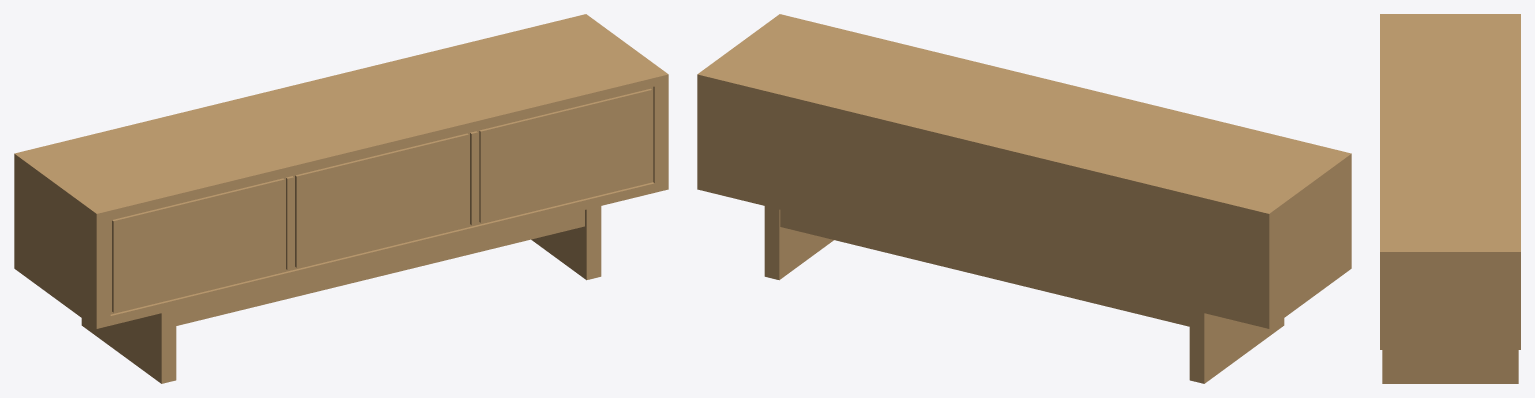
File: tvcabinet6.fbx
The picture shows the model from 3 angles, left to right: view 1: azimuth 30°, elevation 25°; view 2: azimuth 150°, elevation 25°; view 3: azimuth 270°, elevation 25°; orthographic projection. The views are drawn at different scales.
Visible parts, largest first — view 1: tvCabinet6; view 2: tvCabinet6; view 3: tvCabinet6.
Part boxes in pixels (x1=…): tvCabinet6: x1=14, y1=14, x2=668, y2=383; tvCabinet6: x1=697, y1=14, x2=1351, y2=383; tvCabinet6: x1=1380, y1=14, x2=1520, y2=383.
Size of the model in its own units: 160 by 50 by 40.
